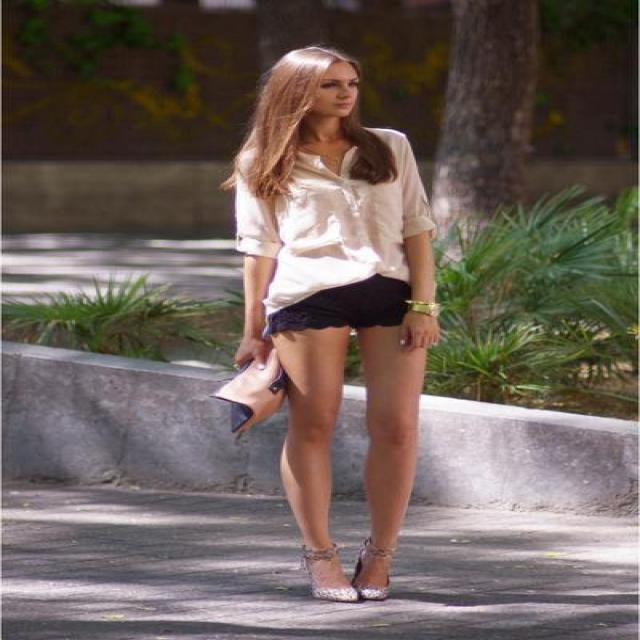bag: (214, 358, 304, 422)
shirt: (221, 128, 434, 293)
skirt: (269, 273, 413, 335)
